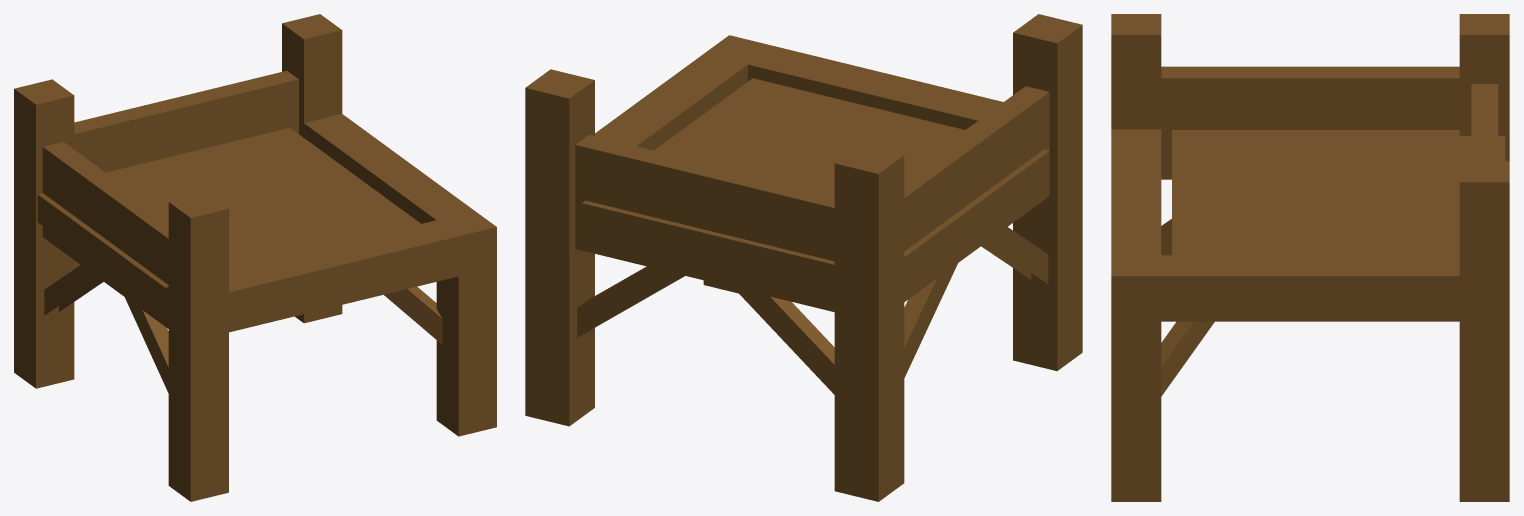
File: ElbowFilled2.fbx
3 views of the same model, side by side, from view 1: azimuth 30°, elevation 25°; view 2: azimuth 150°, elevation 25°; view 3: azimuth 270°, elevation 25° (orthographic). The views are drawn at different scales.
Visible parts, largest first — view 1: Bridge - Elbow Filled; view 2: Bridge - Elbow Filled; view 3: Bridge - Elbow Filled.
Part boxes in pixels (x1,y1,x2,y2): Bridge - Elbow Filled: (14, 14, 496, 501); Bridge - Elbow Filled: (525, 14, 1082, 501); Bridge - Elbow Filled: (1111, 14, 1509, 501).
Bounding box in the file's own units: 80 × 70.89 × 80.
